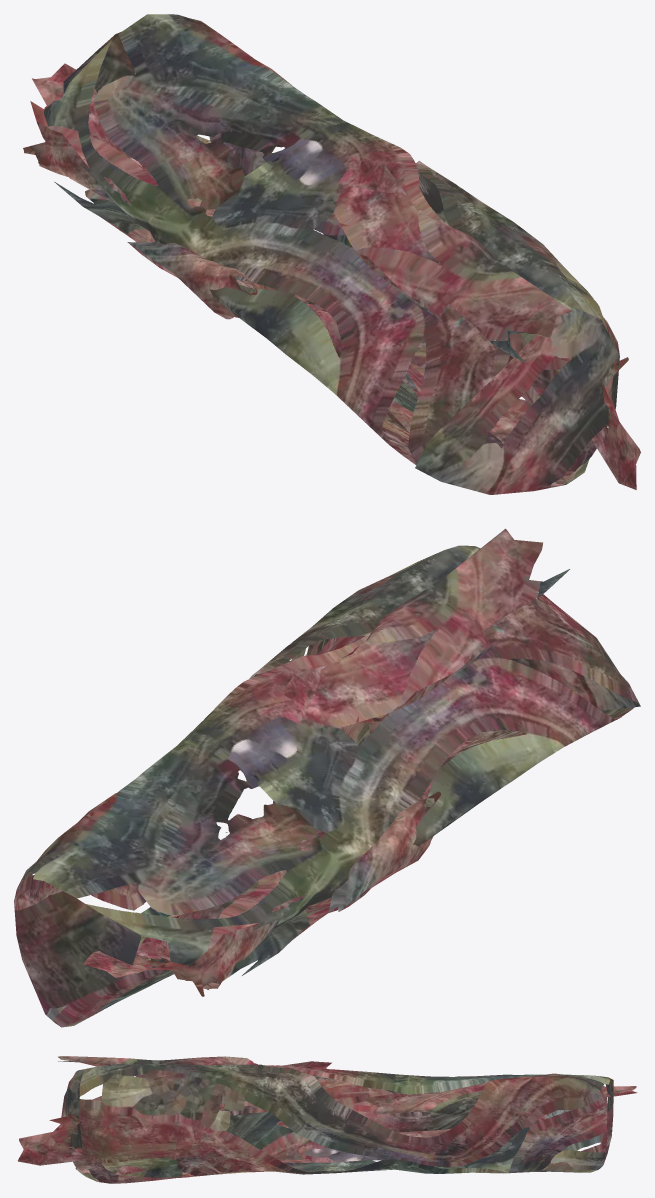
3 views of the same model, one above another, from view 1: azimuth 30°, elevation 25°; view 2: azimuth 150°, elevation 25°; view 3: azimuth 270°, elevation 25° (orthographic). The views are drawn at different scales.
Parts seen in each view (by area): view 1: SM_Choppable_Vines_LOD0; view 2: SM_Choppable_Vines_LOD0; view 3: SM_Choppable_Vines_LOD0.
Part boxes in pixels (box(x1,y1,x2,y2)): SM_Choppable_Vines_LOD0: box(23, 14, 640, 494); SM_Choppable_Vines_LOD0: box(14, 528, 640, 1027); SM_Choppable_Vines_LOD0: box(18, 1056, 637, 1183).
Size of the model in its own units: 0.233 by 0.1848 by 0.8848.
